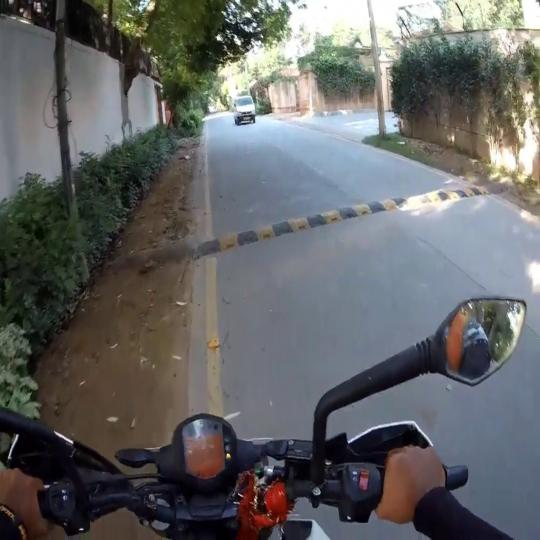Speed Bump: (199, 181, 488, 259)
